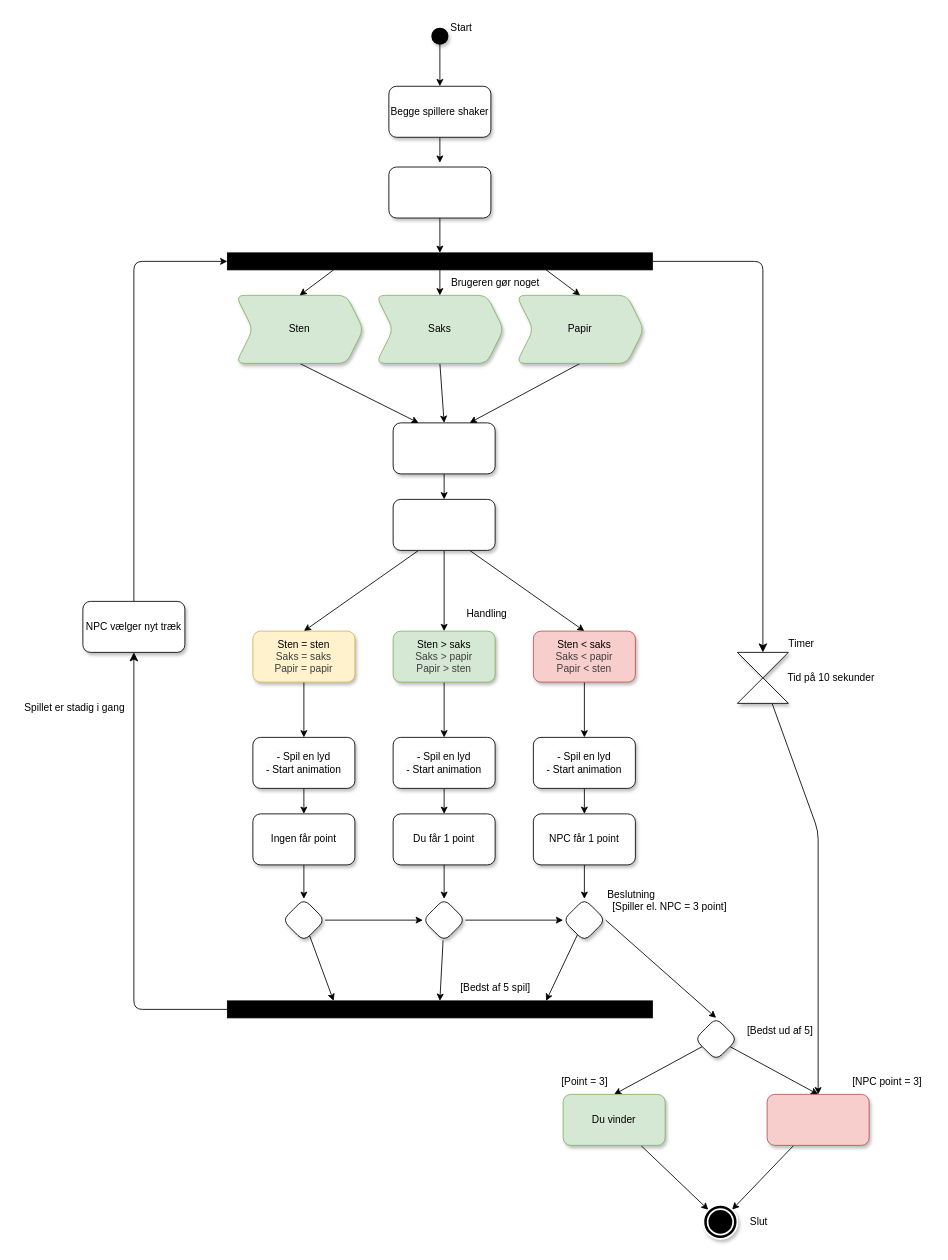
Image size: 948x1260. Some labels were removed from this diagram. The centre of each missing label's shape, as x and y in pixels:
"Hvem vinder?" goes at pixel 444 525.
"NPC vinder" goes at pixel 818 1120.
"NPC vælger træk" goes at pixel 444 449.
"Vælg sten, saks el. papir" goes at pixel 440 193.
